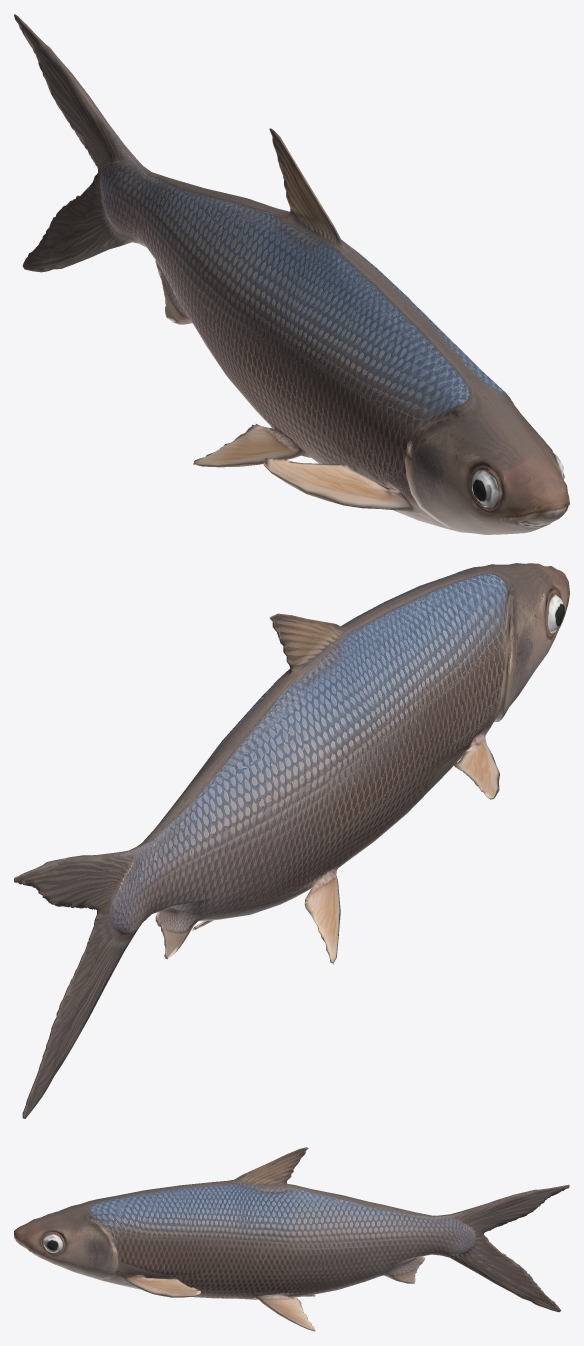
File: bangus3.opt.glb
3 renders of one model, top to bottom at view 1: azimuth 30°, elevation 25°; view 2: azimuth 150°, elevation 25°; view 3: azimuth 270°, elevation 25°, orthographic. The views are drawn at different scales.
Visible parts, largest first — view 1: world; view 2: world; view 3: world.
Part boxes in pixels (x1,y1,x2,y2): world: (14,14,569,534); world: (14,563,569,1118); world: (14,1147,569,1331).
Size of the model in its own units: 0.2402 by 0.3301 by 0.998.
1 material, 1 textured.
